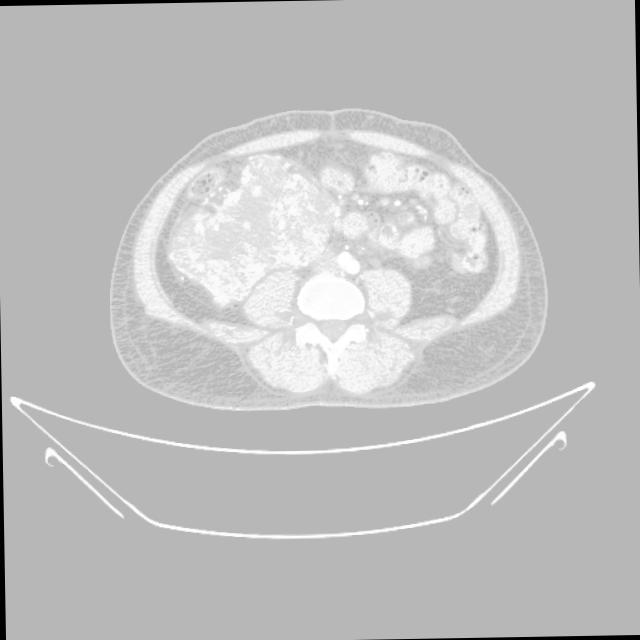TUMOR: (197, 121, 467, 297)
